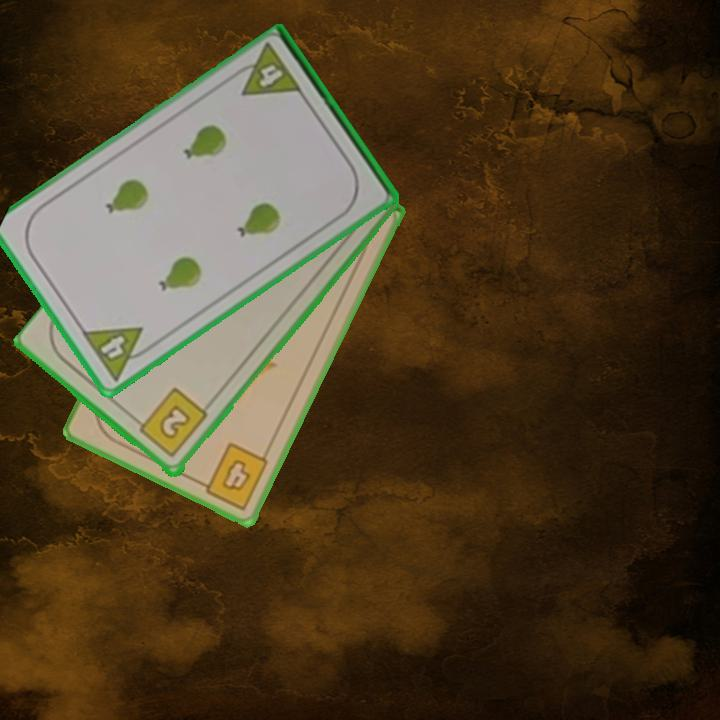2b: (130, 385, 211, 461)
4b: (193, 439, 272, 513)
4p: (78, 323, 157, 384), (227, 40, 306, 100)
